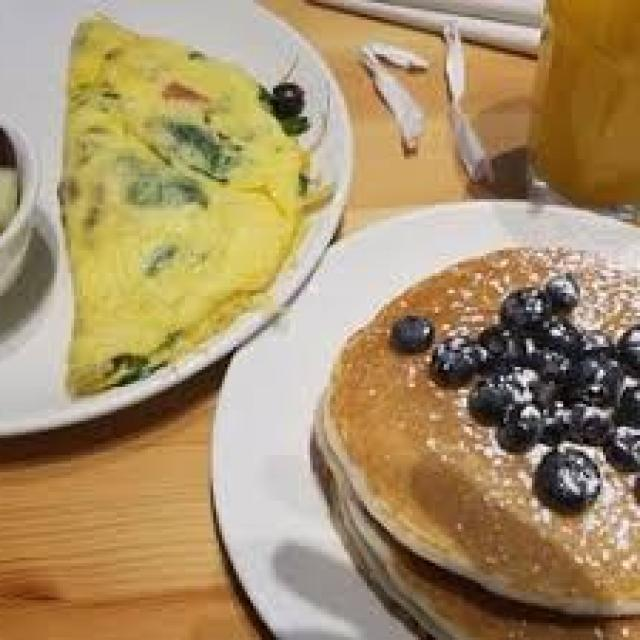Omelette: (51, 14, 319, 401)
Pancakes: (307, 227, 640, 640)
